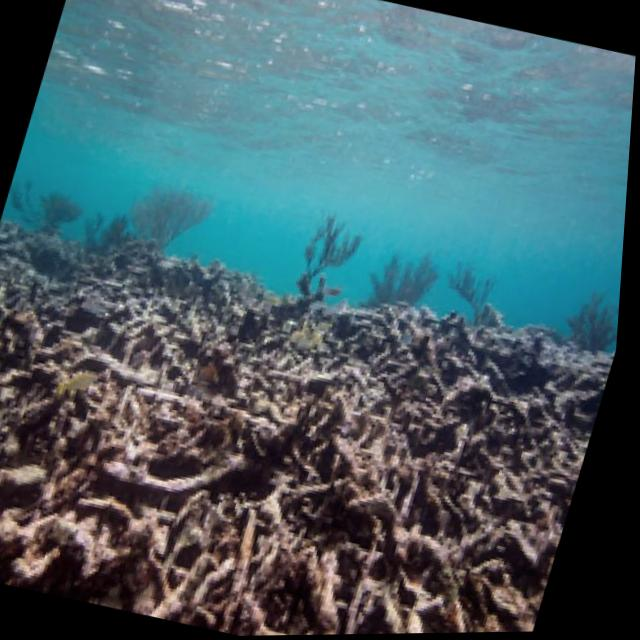Dead Coral: (171, 308, 482, 584), (0, 309, 259, 576), (307, 270, 625, 472), (85, 472, 403, 639), (340, 444, 578, 636)
